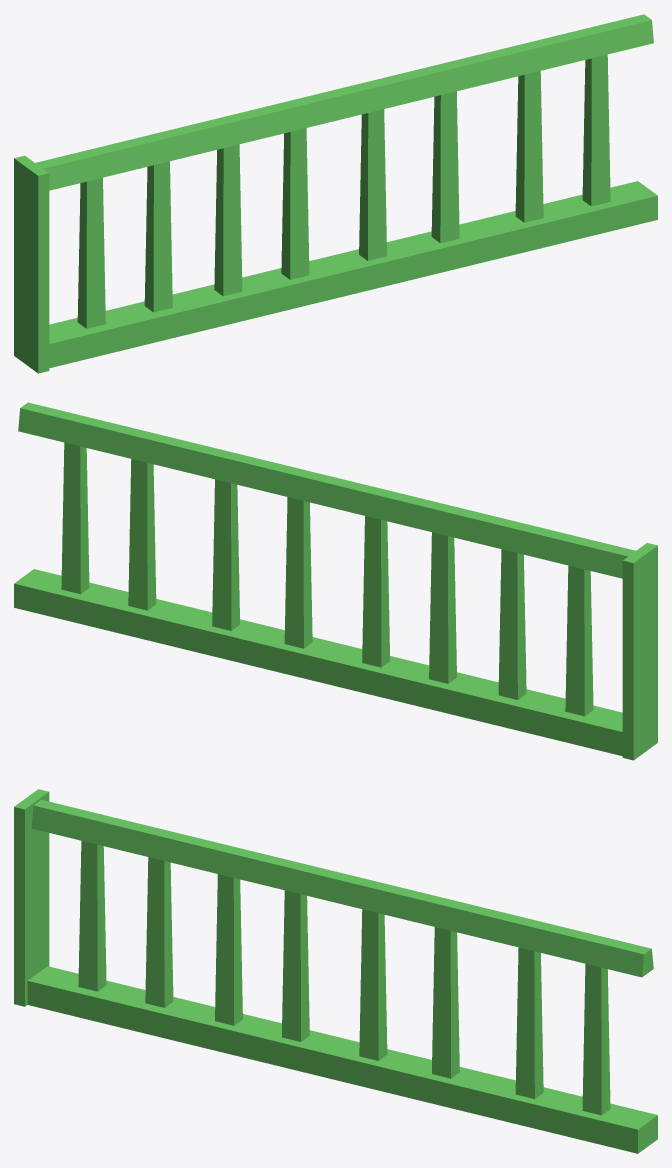
File: Gen_Handrail_Mid.fbx
3 renders of one model, top to bottom at view 1: azimuth 30°, elevation 25°; view 2: azimuth 150°, elevation 25°; view 3: azimuth 330°, elevation 25°, orthographic.
Parts seen in each view (by area): view 1: Gen_Handrail_Mid; view 2: Gen_Handrail_Mid; view 3: Gen_Handrail_Mid.
Boxes of the visible parts, left/top/right/bottom form: Gen_Handrail_Mid: left=14, top=14, right=657, bottom=373; Gen_Handrail_Mid: left=14, top=402, right=657, bottom=760; Gen_Handrail_Mid: left=14, top=789, right=657, bottom=1153.
Bounding box in the file's own units: 300 × 91.04 × 20.31.
